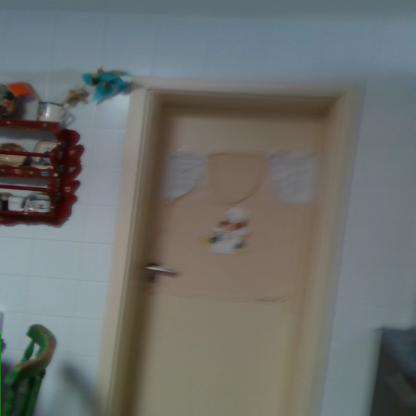door: (133, 98, 312, 415)
lever: (142, 264, 182, 277)
